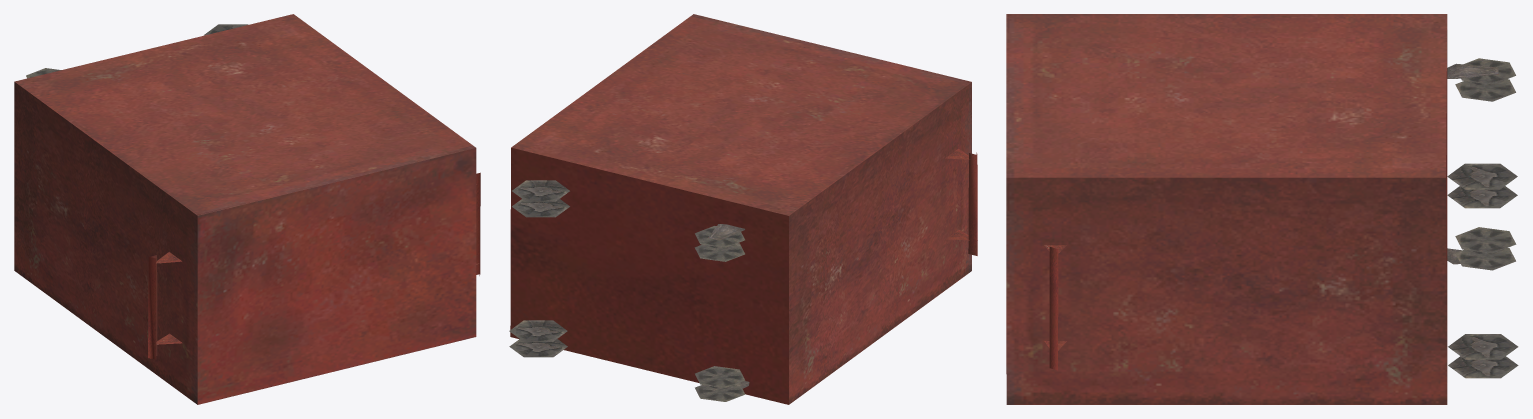
File: p_glo_tool_chest_LOD2.obj
3 views of the same model, side by side, from view 1: azimuth 30°, elevation 25°; view 2: azimuth 150°, elevation 25°; view 3: azimuth 270°, elevation 25° (orthographic). The views are drawn at different scales.
Visible parts, largest first — view 1: mtl_p_glo_tool_chest; view 2: mtl_p_glo_tool_chest; view 3: mtl_p_glo_tool_chest.
Part boxes in pixels (<box>): mtl_p_glo_tool_chest: <box>14,14,480,404</box>; mtl_p_glo_tool_chest: <box>509,14,977,404</box>; mtl_p_glo_tool_chest: <box>1006,14,1518,404</box>.
Bounding box in the file's own units: 122 × 66.64 × 136.
